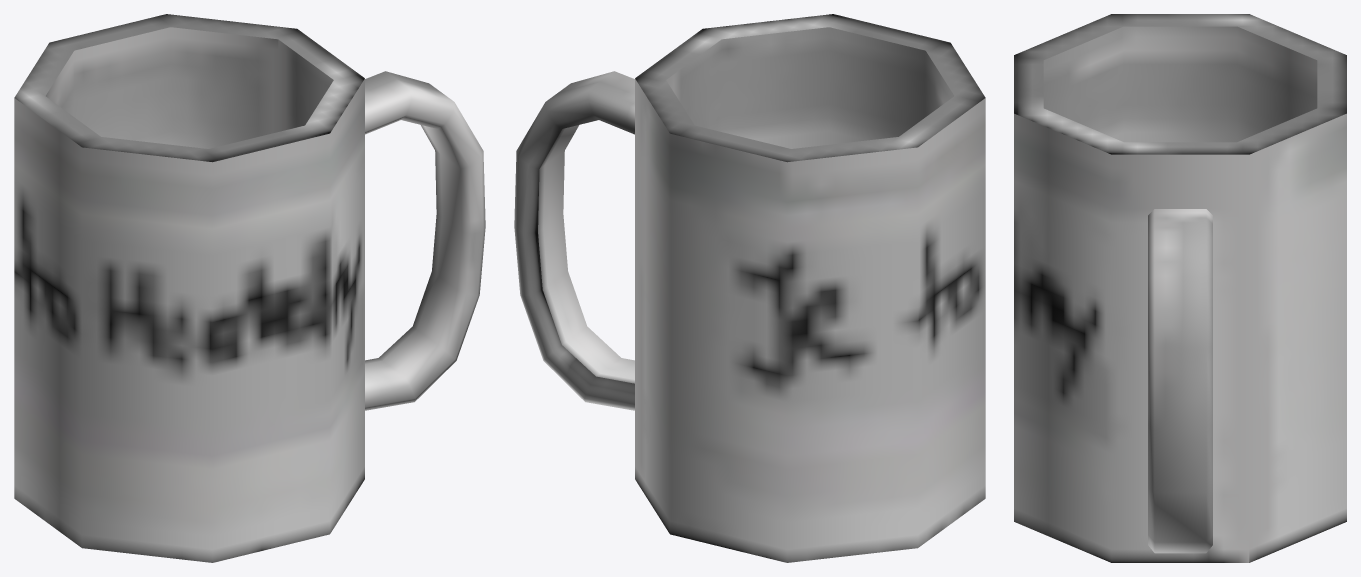
File: Mug_Asset.fbx
The picture shows the model from 3 angles, left to right: view 1: azimuth 30°, elevation 25°; view 2: azimuth 150°, elevation 25°; view 3: azimuth 270°, elevation 25°; orthographic projection.
Parts seen in each view (by area): view 1: Mug; view 2: Mug; view 3: Mug.
Part boxes in pixels (x1,y1,x2,y2): Mug: (14, 14, 485, 562); Mug: (514, 14, 985, 562); Mug: (1014, 14, 1346, 562).
Bounding box in the file's own units: 13.32 × 8.88 × 12.01.
